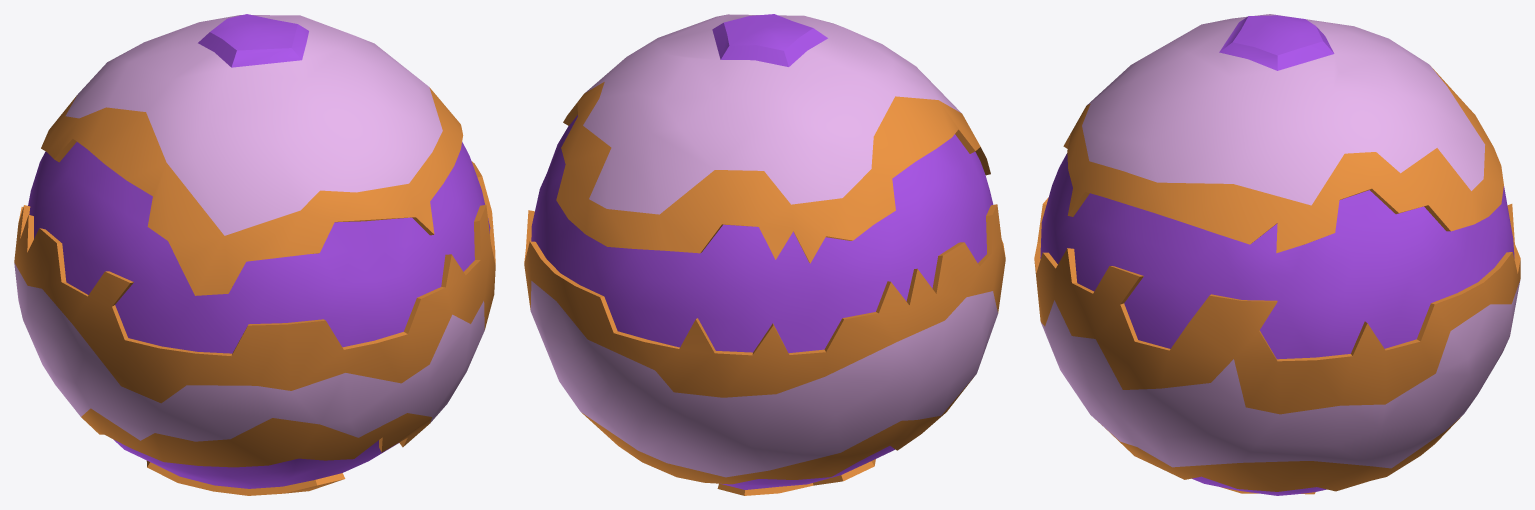
File: planet-6.glb
The picture shows the model from 3 angles, left to right: view 1: azimuth 30°, elevation 25°; view 2: azimuth 150°, elevation 25°; view 3: azimuth 270°, elevation 25°; orthographic projection.
Parts seen in each view (by area): view 1: Toy_Planet_5_Toy_Planets_0; view 2: Toy_Planet_5_Toy_Planets_0; view 3: Toy_Planet_5_Toy_Planets_0.
Part boxes in pixels (<box>): Toy_Planet_5_Toy_Planets_0: <box>14,14,495,495</box>; Toy_Planet_5_Toy_Planets_0: <box>524,14,1005,495</box>; Toy_Planet_5_Toy_Planets_0: <box>1034,14,1520,495</box>.
Size of the model in its own units: 2 by 2.04 by 2.
Materials: 1 (1 with a texture image).
